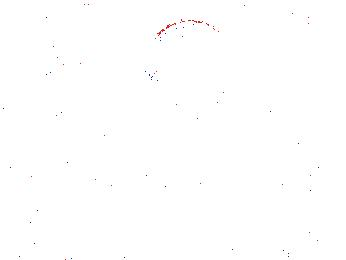moon jellyfish: (258, 21, 346, 92), (144, 19, 237, 83), (1, 8, 69, 81), (63, 8, 158, 60)
